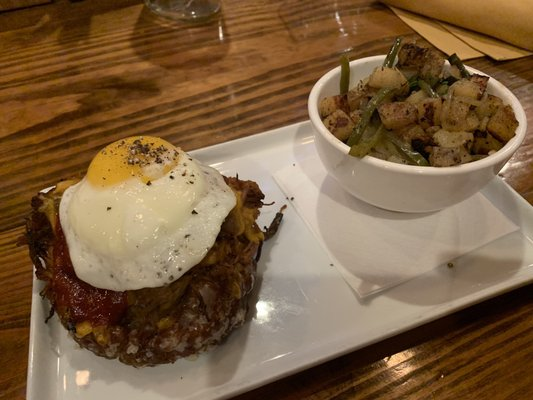pizza: (140, 0, 224, 24)
soup: (26, 135, 278, 367)
sushi: (307, 38, 527, 216)
